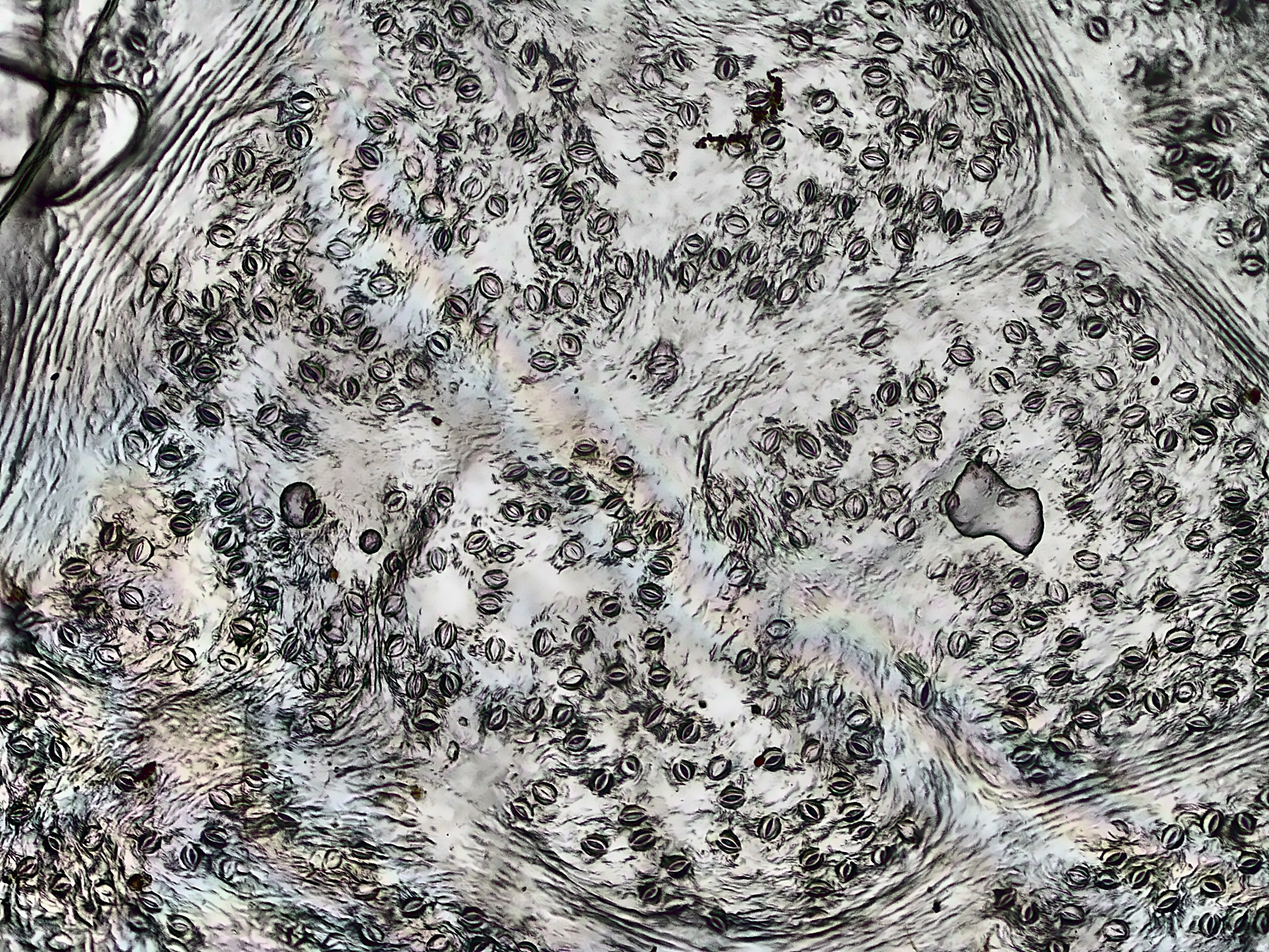stomata: (885, 219, 924, 257), (202, 312, 244, 346), (958, 84, 1000, 118), (890, 815, 935, 846), (196, 820, 237, 854), (829, 401, 863, 442), (72, 823, 115, 855), (372, 386, 414, 418), (751, 422, 786, 460), (788, 425, 825, 460), (816, 1, 859, 31), (237, 236, 269, 276), (1040, 730, 1086, 757), (354, 522, 390, 556), (548, 276, 585, 309), (164, 331, 195, 369), (229, 140, 262, 175), (92, 642, 127, 675), (736, 159, 777, 187), (891, 122, 928, 153), (135, 404, 169, 437), (999, 313, 1032, 347), (410, 76, 442, 111), (699, 907, 739, 935), (986, 364, 1021, 396), (640, 348, 683, 374), (754, 804, 785, 840), (1198, 871, 1234, 902), (308, 706, 342, 738), (1162, 624, 1197, 655), (935, 122, 970, 153), (987, 120, 1024, 149), (192, 401, 233, 427), (855, 322, 896, 348), (278, 118, 312, 149), (755, 690, 789, 721), (1098, 835, 1129, 869), (1116, 642, 1155, 669), (916, 672, 941, 714), (477, 271, 513, 300), (1040, 659, 1080, 685), (842, 737, 879, 765), (1169, 377, 1206, 405), (1214, 628, 1252, 655), (546, 67, 587, 92), (135, 822, 160, 863), (447, 0, 480, 31), (1161, 818, 1192, 851), (743, 84, 778, 113), (1073, 252, 1108, 281), (1165, 47, 1200, 76), (275, 215, 311, 243), (250, 571, 286, 599), (913, 373, 941, 409), (872, 28, 908, 56), (129, 530, 156, 567), (858, 143, 895, 170), (1206, 104, 1233, 141), (580, 826, 612, 857), (206, 784, 239, 814), (1227, 582, 1265, 608), (300, 492, 329, 526), (1086, 585, 1120, 614), (840, 232, 874, 261), (976, 405, 1011, 433), (144, 446, 183, 471), (385, 628, 412, 664), (1090, 864, 1126, 891), (803, 228, 830, 264), (265, 166, 302, 192), (425, 540, 451, 577), (1056, 622, 1087, 653), (1115, 285, 1146, 316), (674, 254, 704, 286), (558, 659, 590, 689), (45, 921, 78, 950), (990, 627, 1023, 656), (1188, 422, 1221, 451), (1130, 335, 1163, 364), (168, 647, 202, 675), (974, 64, 1008, 92), (203, 222, 238, 249), (7, 852, 42, 879), (963, 159, 1004, 182), (6, 736, 45, 760), (844, 705, 880, 731), (405, 355, 436, 385), (122, 428, 152, 459), (643, 703, 673, 734), (509, 797, 540, 827), (707, 750, 738, 780), (340, 592, 372, 621), (637, 151, 674, 176), (566, 140, 599, 168), (1100, 913, 1133, 941), (1170, 177, 1203, 205), (790, 24, 824, 51), (736, 238, 771, 264), (366, 270, 401, 296), (298, 359, 333, 385), (716, 786, 751, 812), (249, 297, 279, 327), (758, 743, 788, 773), (208, 522, 239, 551), (57, 556, 96, 579), (720, 567, 759, 590), (366, 9, 398, 37), (1090, 363, 1122, 391), (1080, 313, 1112, 341), (191, 357, 224, 384), (704, 481, 731, 514), (861, 63, 894, 90), (992, 710, 1029, 734), (366, 354, 400, 380), (0, 692, 26, 726), (874, 372, 900, 406), (1155, 483, 1183, 514), (763, 652, 795, 679), (878, 180, 905, 212), (315, 626, 356, 647), (489, 703, 515, 736), (361, 918, 394, 944), (1144, 684, 1170, 717), (1035, 293, 1068, 319), (1078, 282, 1111, 308), (1243, 205, 1265, 244), (999, 687, 1044, 706), (116, 772, 150, 797), (274, 804, 303, 833), (1101, 811, 1130, 840), (975, 442, 1004, 471), (143, 257, 173, 285), (243, 762, 273, 790), (1153, 890, 1183, 918), (1199, 906, 1223, 941), (1064, 488, 1092, 518), (933, 490, 963, 518), (1228, 432, 1256, 462), (813, 117, 841, 147), (797, 795, 828, 822), (844, 489, 871, 520), (785, 521, 812, 552), (737, 273, 769, 299), (23, 686, 55, 712), (348, 836, 380, 862), (353, 140, 386, 165), (1007, 744, 1040, 769), (1018, 270, 1051, 295), (3, 804, 42, 825), (802, 877, 836, 901), (169, 509, 197, 538), (458, 216, 485, 246), (94, 517, 124, 544), (47, 869, 77, 896), (810, 477, 837, 507), (1235, 847, 1262, 877), (773, 275, 800, 305), (532, 349, 563, 375), (281, 631, 307, 662), (836, 856, 862, 887), (826, 769, 857, 795), (1211, 394, 1242, 420), (802, 733, 825, 768), (1057, 901, 1092, 924), (138, 619, 176, 640), (457, 78, 490, 102), (1202, 805, 1224, 841), (1211, 164, 1233, 200), (118, 584, 147, 611), (925, 551, 952, 580), (895, 510, 918, 544), (1104, 683, 1138, 706), (958, 566, 981, 600), (1156, 142, 1186, 168), (363, 112, 400, 133), (339, 174, 370, 199), (617, 797, 648, 822), (1072, 544, 1103, 569), (1121, 402, 1152, 427), (1071, 707, 1106, 729), (503, 458, 535, 482), (434, 617, 458, 649), (946, 13, 978, 37), (1232, 545, 1265, 568), (912, 420, 945, 443), (381, 592, 409, 619), (675, 757, 702, 785), (872, 452, 899, 480), (1209, 680, 1245, 701), (810, 87, 838, 114), (398, 153, 424, 182), (557, 332, 586, 358), (531, 498, 557, 527), (354, 874, 383, 900), (412, 25, 442, 50), (833, 192, 858, 222), (91, 882, 125, 904), (125, 910, 159, 932), (637, 584, 668, 608), (637, 878, 668, 902), (1045, 574, 1069, 605), (412, 710, 444, 733), (1088, 12, 1111, 44), (180, 836, 201, 871), (224, 553, 252, 579), (385, 546, 407, 579), (298, 664, 320, 697), (1044, 0, 1077, 22), (50, 738, 75, 767), (602, 492, 631, 517), (600, 661, 629, 686), (321, 842, 346, 871), (1124, 510, 1153, 535), (1217, 489, 1255, 508), (602, 290, 632, 314), (717, 51, 741, 81), (727, 513, 751, 543), (642, 57, 663, 91), (718, 212, 752, 233), (473, 593, 507, 614), (1118, 9, 1141, 40), (286, 90, 318, 112), (480, 568, 512, 590), (137, 887, 169, 909), (878, 485, 910, 507), (762, 123, 789, 149), (1063, 861, 1090, 887), (504, 124, 529, 152), (270, 260, 305, 280), (168, 914, 196, 939), (718, 830, 746, 855), (991, 885, 1019, 910), (1233, 809, 1261, 834), (1021, 605, 1049, 630), (1156, 426, 1181, 454), (805, 268, 830, 296), (437, 130, 466, 154), (612, 249, 636, 278), (912, 194, 941, 218), (335, 659, 356, 692), (1186, 713, 1219, 734), (444, 294, 474, 317), (587, 765, 610, 795), (823, 678, 846, 708), (1076, 430, 1106, 453), (470, 314, 504, 334), (424, 192, 451, 217), (763, 203, 790, 228), (268, 532, 293, 559), (386, 485, 411, 512), (1016, 899, 1043, 924), (988, 591, 1013, 618), (159, 298, 183, 326), (799, 844, 827, 868), (949, 626, 970, 658), (1003, 567, 1032, 590), (875, 95, 904, 118), (533, 163, 568, 182), (794, 684, 816, 714), (1128, 471, 1158, 493), (675, 98, 700, 124), (1185, 527, 1211, 552), (136, 63, 160, 90), (650, 516, 674, 543), (564, 540, 591, 564), (666, 44, 689, 72), (281, 429, 309, 452), (1153, 587, 1181, 610), (1036, 354, 1064, 377), (558, 191, 590, 211), (641, 622, 663, 651), (530, 781, 559, 803), (483, 634, 504, 664), (459, 905, 489, 926), (860, 0, 897, 17), (478, 121, 503, 146), (530, 628, 555, 653), (618, 753, 643, 778), (292, 285, 319, 308), (549, 703, 576, 726), (1192, 150, 1219, 173), (488, 191, 510, 219), (127, 26, 149, 54), (440, 670, 462, 698), (732, 649, 760, 671), (947, 204, 964, 240), (935, 50, 953, 84), (591, 212, 616, 236), (404, 892, 429, 916), (1231, 513, 1261, 533), (794, 183, 819, 207), (427, 331, 453, 354), (499, 498, 525, 521), (981, 215, 1007, 238), (920, 0, 946, 23), (565, 729, 592, 751), (425, 930, 452, 952), (1119, 53, 1141, 80), (322, 237, 359, 253), (172, 490, 203, 509), (559, 238, 580, 266), (628, 829, 656, 850), (872, 841, 893, 869), (1239, 254, 1263, 278), (521, 39, 543, 65), (649, 554, 675, 576), (647, 662, 673, 684), (663, 857, 693, 876), (1229, 904, 1248, 934), (434, 224, 455, 251), (229, 613, 256, 634), (365, 204, 393, 224), (210, 161, 230, 189), (342, 375, 362, 403), (214, 492, 242, 512), (247, 508, 275, 528), (433, 487, 461, 507), (613, 453, 636, 477), (784, 486, 807, 510), (951, 347, 975, 370), (1023, 395, 1049, 416), (78, 587, 110, 604), (491, 541, 518, 561), (201, 282, 220, 310), (216, 655, 244, 674), (568, 486, 596, 505), (616, 532, 639, 555), (568, 625, 592, 647), (246, 638, 271, 659), (220, 854, 241, 879), (998, 489, 1023, 510), (514, 934, 543, 952), (527, 285, 547, 311), (61, 624, 81, 650), (404, 666, 424, 692), (1176, 676, 1196, 702), (103, 48, 125, 71), (852, 817, 874, 840), (677, 720, 701, 741), (1251, 639, 1269, 667), (308, 314, 328, 339), (1130, 864, 1150, 889), (1253, 903, 1269, 934), (45, 829, 64, 855), (1214, 226, 1233, 252), (358, 331, 380, 353), (602, 596, 624, 618), (256, 404, 279, 425), (342, 305, 366, 325), (1042, 935, 1072, 951), (421, 504, 440, 529), (1059, 405, 1084, 424), (552, 459, 570, 485), (525, 696, 543, 722), (1141, 0, 1177, 13), (468, 935, 499, 950), (844, 803, 873, 819), (498, 20, 520, 41), (465, 530, 487, 551), (770, 619, 792, 640), (725, 137, 750, 154), (570, 441, 600, 455), (712, 245, 729, 269), (686, 233, 706, 253), (534, 226, 555, 245), (463, 178, 483, 197), (635, 507, 652, 529), (440, 61, 459, 80), (650, 130, 669, 147), (1258, 781, 1269, 807), (1257, 674, 1269, 697)
